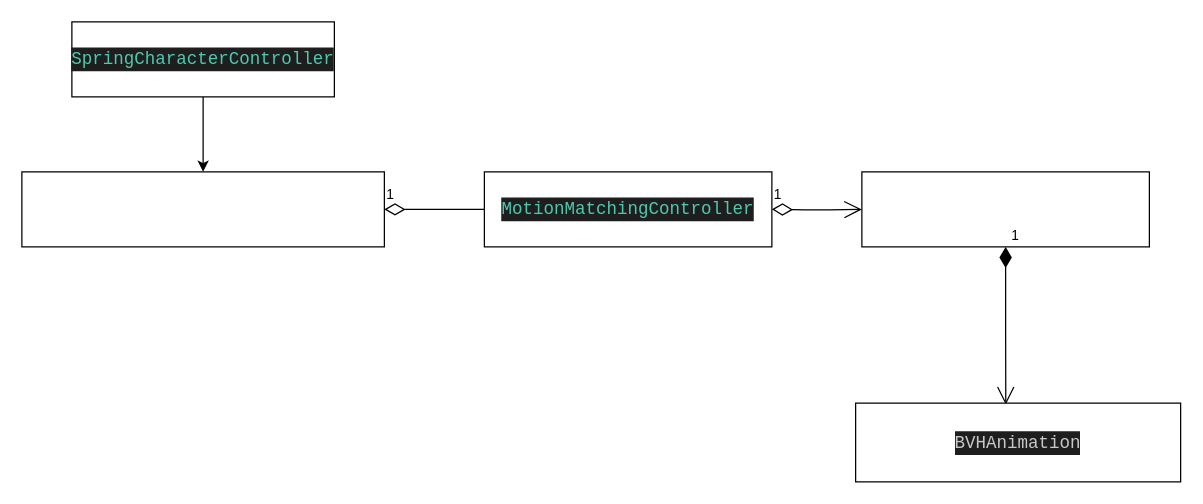
This 1203x504 diagram has some shape labels left out. The centre of each missing label's shape, as x and y in pixels:
"MotionMatchingCharacterController" belongs at point (202, 209).
"MotionMatchingData" belongs at point (1005, 209).
